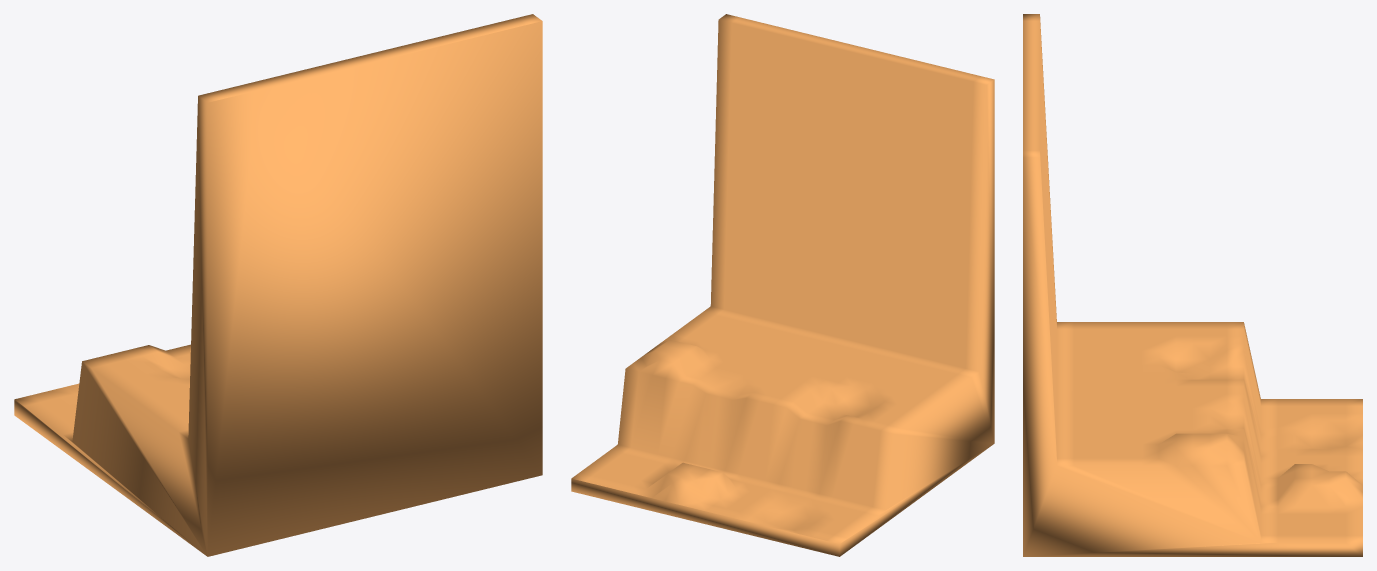
File: left3.fbx
The picture shows the model from 3 angles, left to right: view 1: azimuth 30°, elevation 25°; view 2: azimuth 150°, elevation 25°; view 3: azimuth 270°, elevation 25°; orthographic projection. The views are drawn at different scales.
Parts seen in each view (by area): view 1: Model; view 2: Model; view 3: Model.
Part boxes in pixels (x1,y1,x2,y2): Model: (14,14,542,556); Model: (571,14,994,556); Model: (1023,14,1362,556).
Size of the model in its own units: 1000 by 1296 by 1000.
